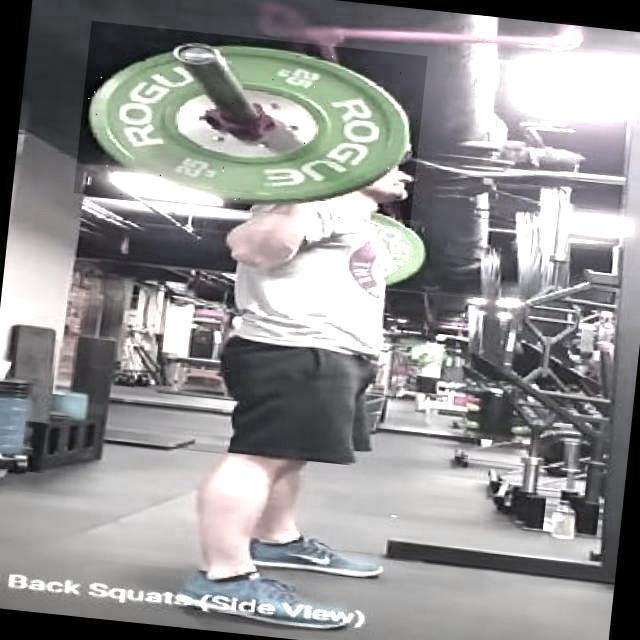barbell: (75, 22, 430, 230)
